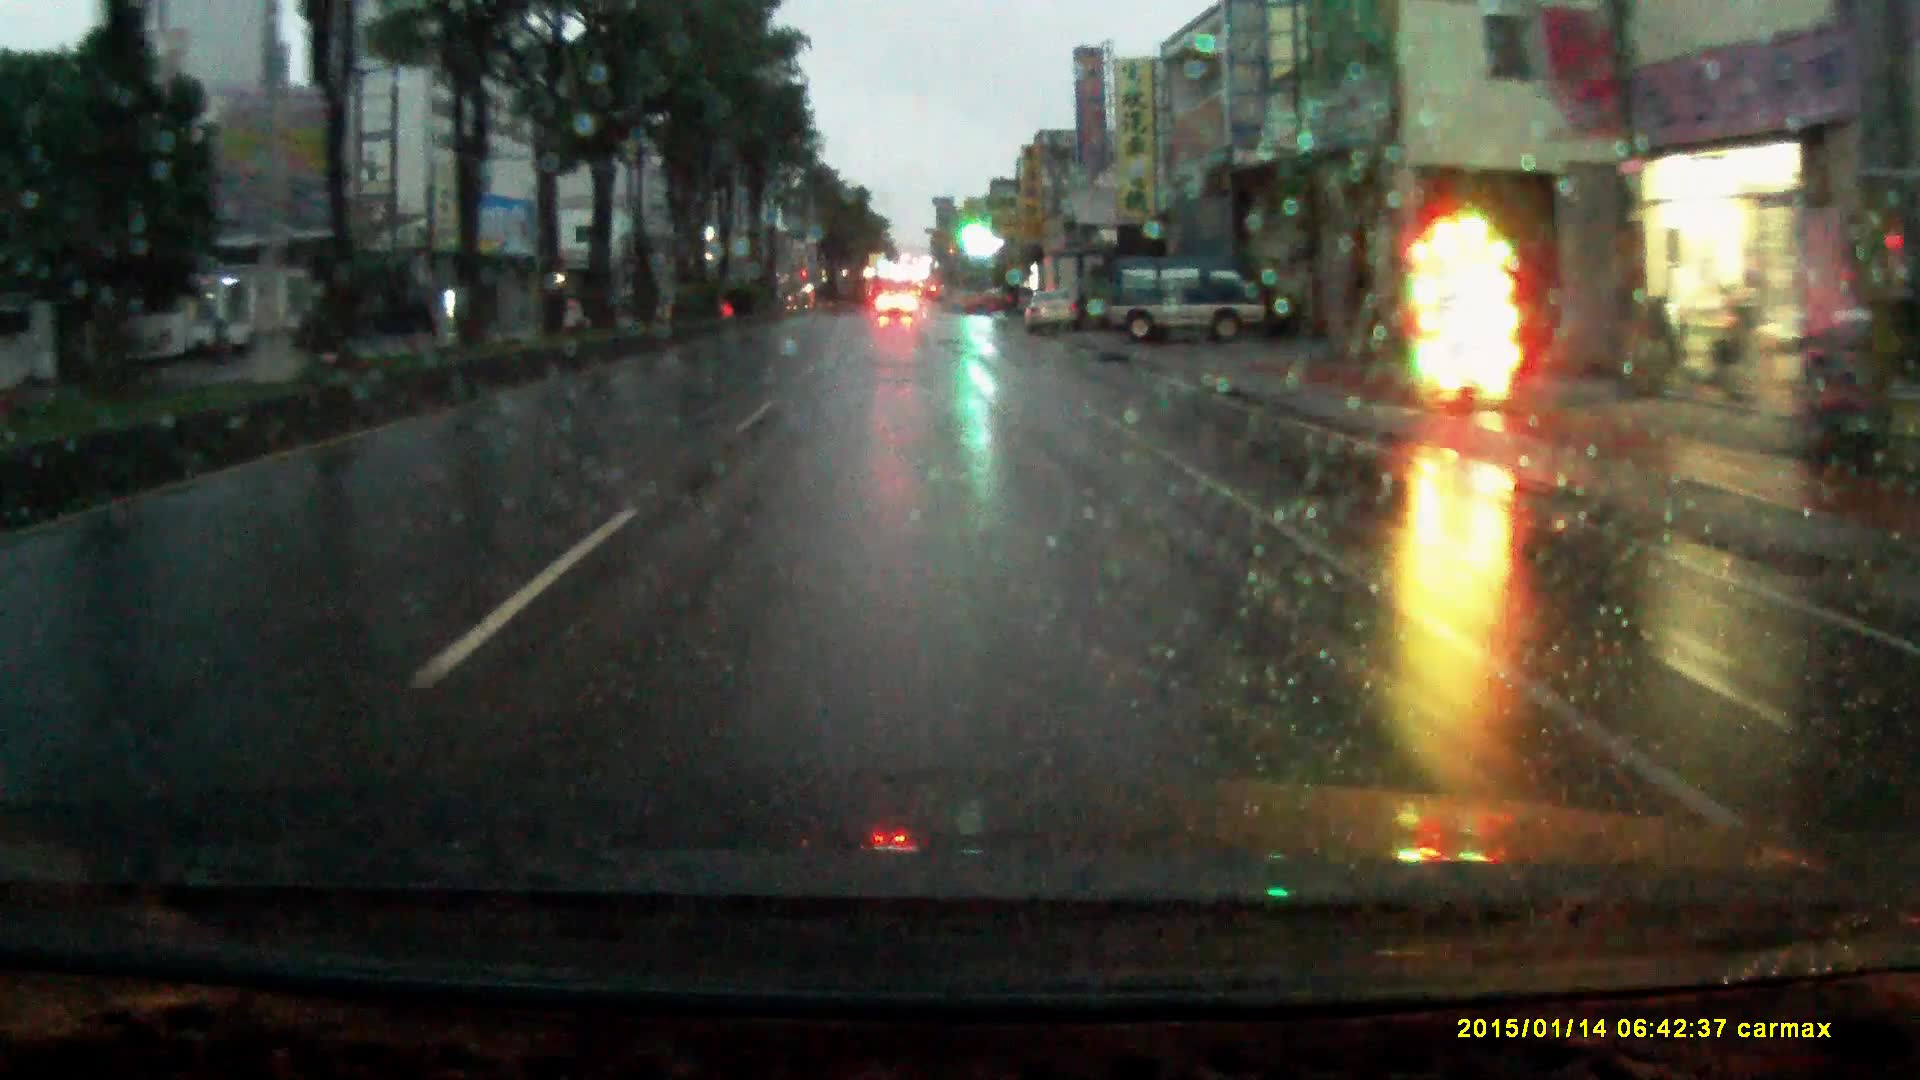vehicle: (1098, 264, 1279, 349), (1038, 247, 1109, 334), (1023, 295, 1083, 338), (876, 295, 918, 324)
